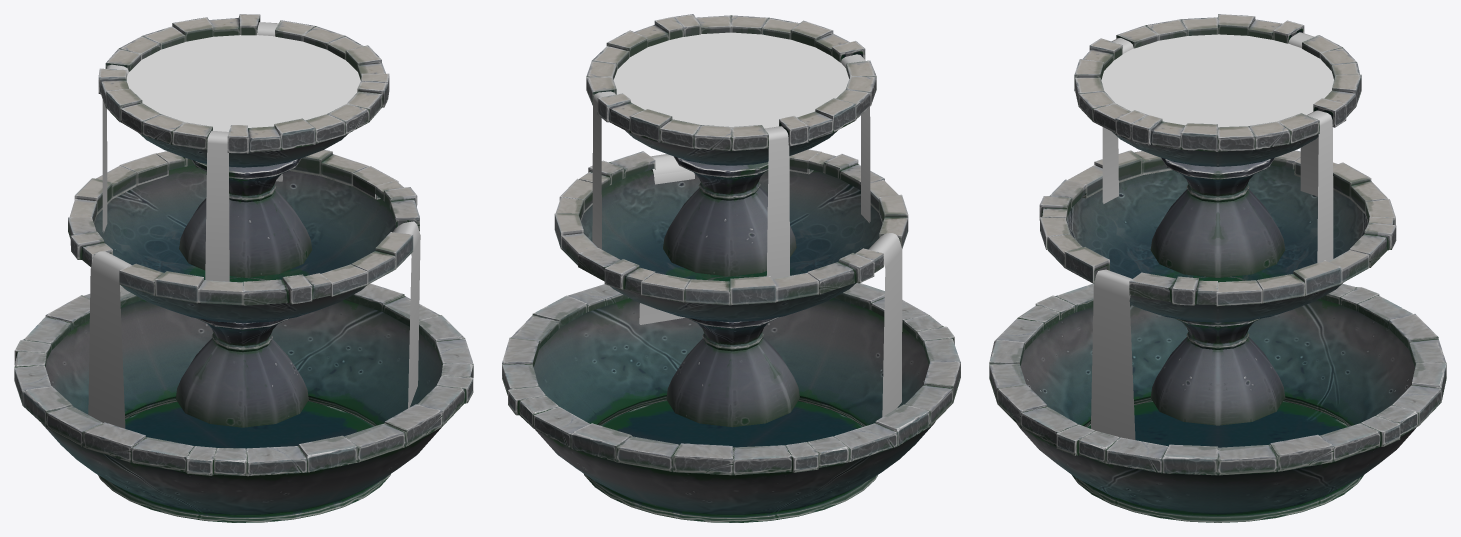
File: 302_fountain_clean.fbx
The picture shows the model from 3 angles, left to right: view 1: azimuth 30°, elevation 25°; view 2: azimuth 150°, elevation 25°; view 3: azimuth 270°, elevation 25°; orthographic projection.
Visible parts, largest first — view 1: 302_fountain, 302_fountain_upperwater, 302_fountain_water; view 2: 302_fountain, 302_fountain_upperwater, 302_fountain_water; view 3: 302_fountain, 302_fountain_upperwater, 302_fountain_water.
Part boxes in pixels (x1,y1,x2,y2): 302_fountain: [14, 14, 473, 522]; 302_fountain_upperwater: [126, 35, 360, 131]; 302_fountain_water: [88, 22, 420, 428]; 302_fountain: [502, 14, 960, 522]; 302_fountain_upperwater: [613, 32, 849, 128]; 302_fountain_water: [592, 54, 902, 416]; 302_fountain: [989, 14, 1446, 522]; 302_fountain_upperwater: [1101, 34, 1333, 127]; 302_fountain_water: [1091, 32, 1333, 439].
Size of the model in its own units: 249 by 249 by 231.
